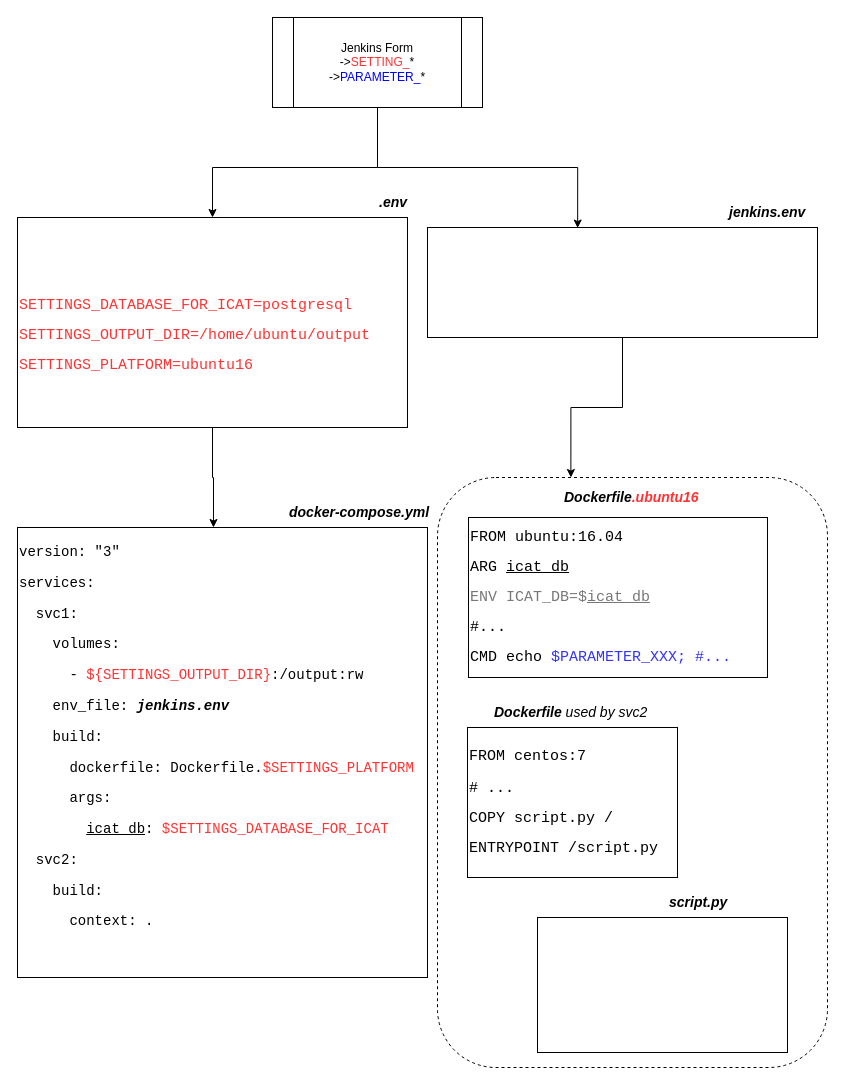
The diagram is 845 pixels wide and 1085 high, and some of its shapes have lost their labels. Here are the shapes that lost their labels. From the top down, the centre of each, then its label:
At (622,282): "PARAMETER_XXX PARAMETER_YYY ...".
At (662,984): "#!/usr/bin/env python import os var_yyy = \ os.environ[' PARAMETER_YYY ']".
